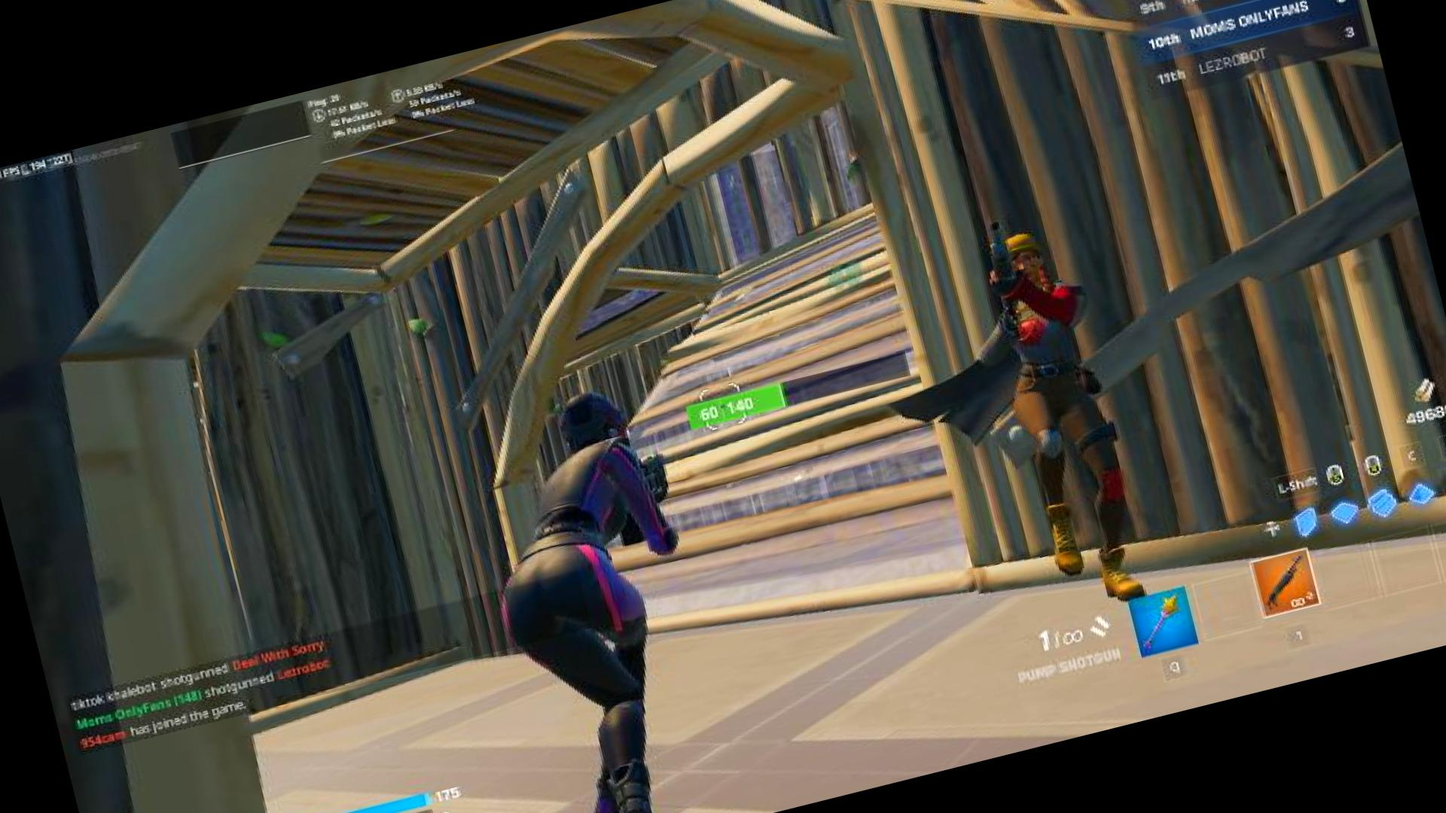player: (952, 205, 1171, 634)
